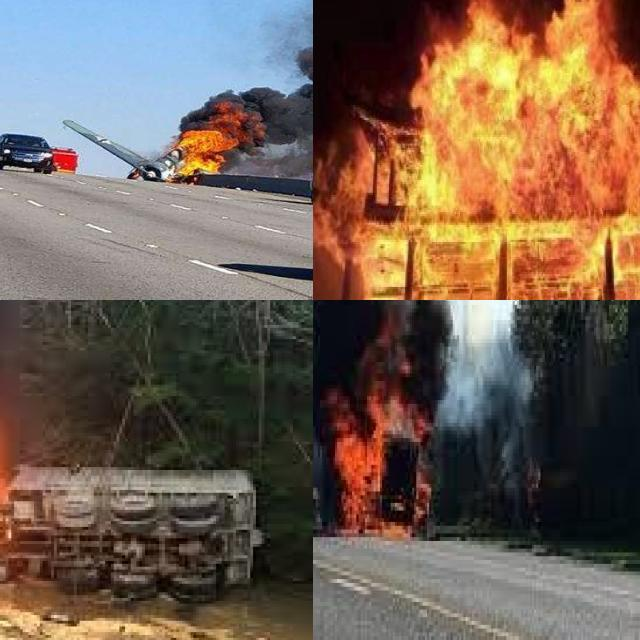fire: (331, 0, 640, 300), (313, 316, 440, 556), (158, 100, 273, 188)
smoke: (313, 300, 504, 415)
